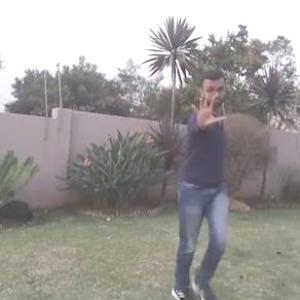follow_hand: (187, 88, 228, 130)
